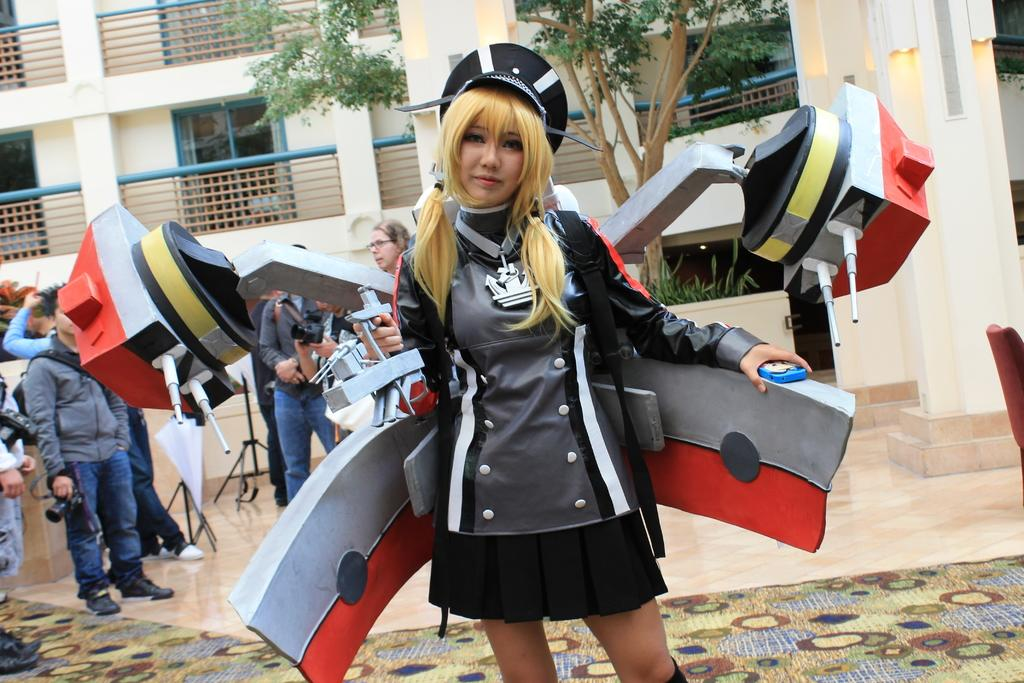Hat: (439, 41, 571, 156)
